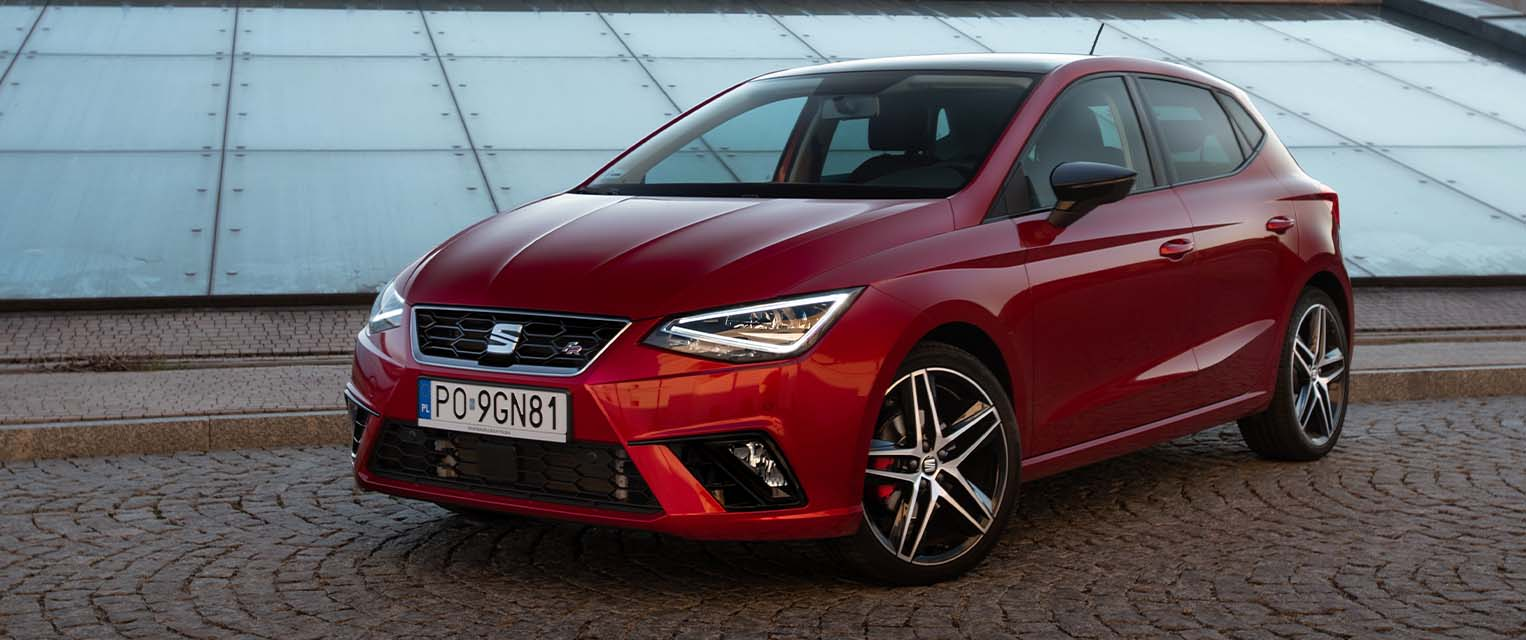number_plate: (414, 376, 569, 442)
